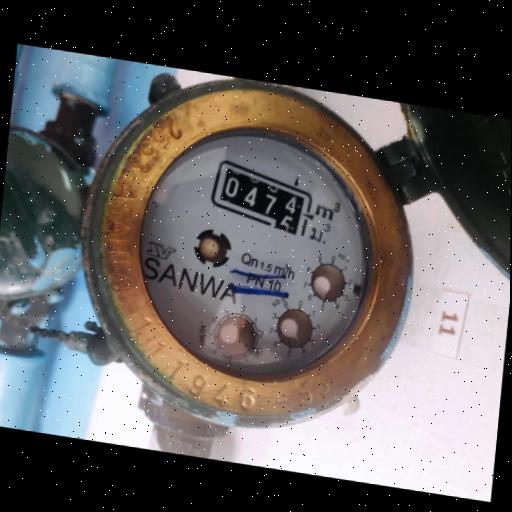0: (219, 168, 246, 206)
4: (273, 189, 305, 235), (237, 175, 265, 214)
7: (257, 182, 284, 220)
border_water_meter_number: (205, 157, 319, 241)
